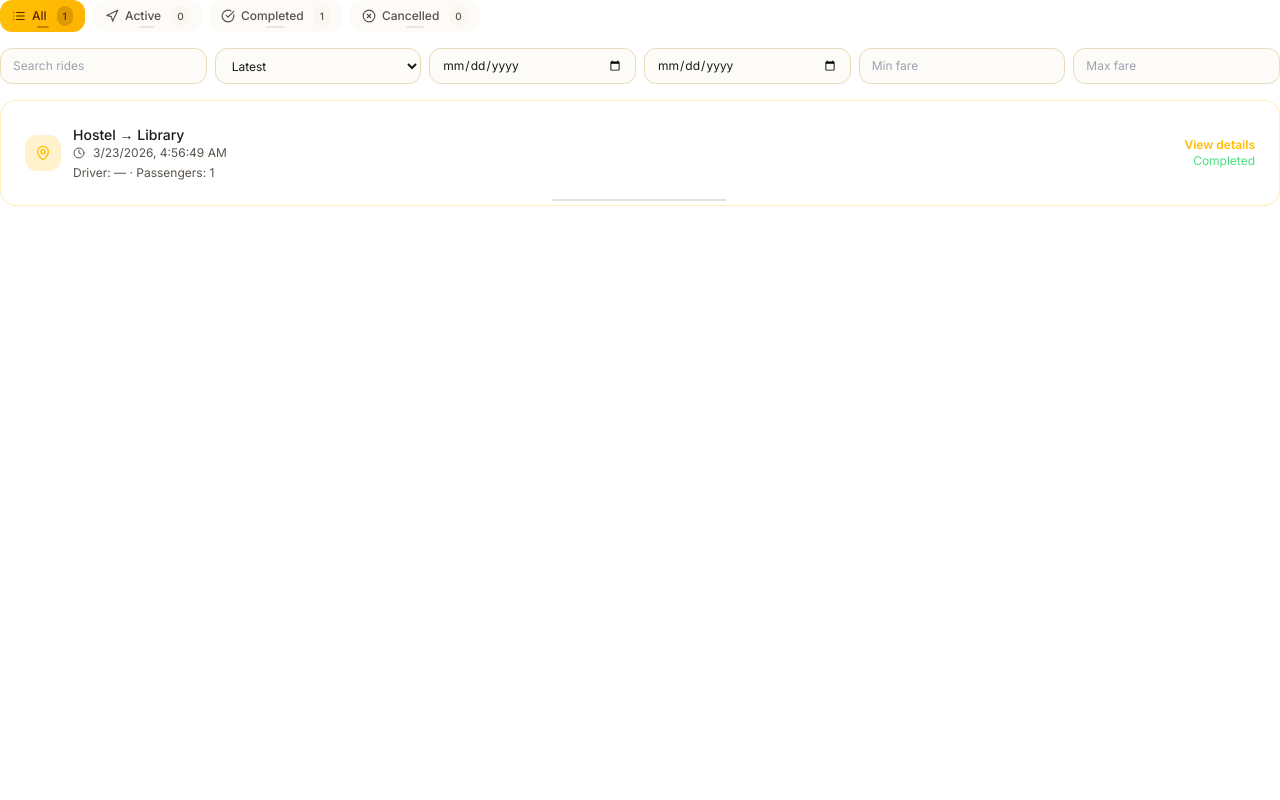
Test: RideHistoryTabs › opens ride details when a ride card is clicked
Expected: the text "Hostel → Library" is shown, [73,126,184,143]
Click the button "Hostel" at coordinates (43, 153), box [0,100,1279,206]
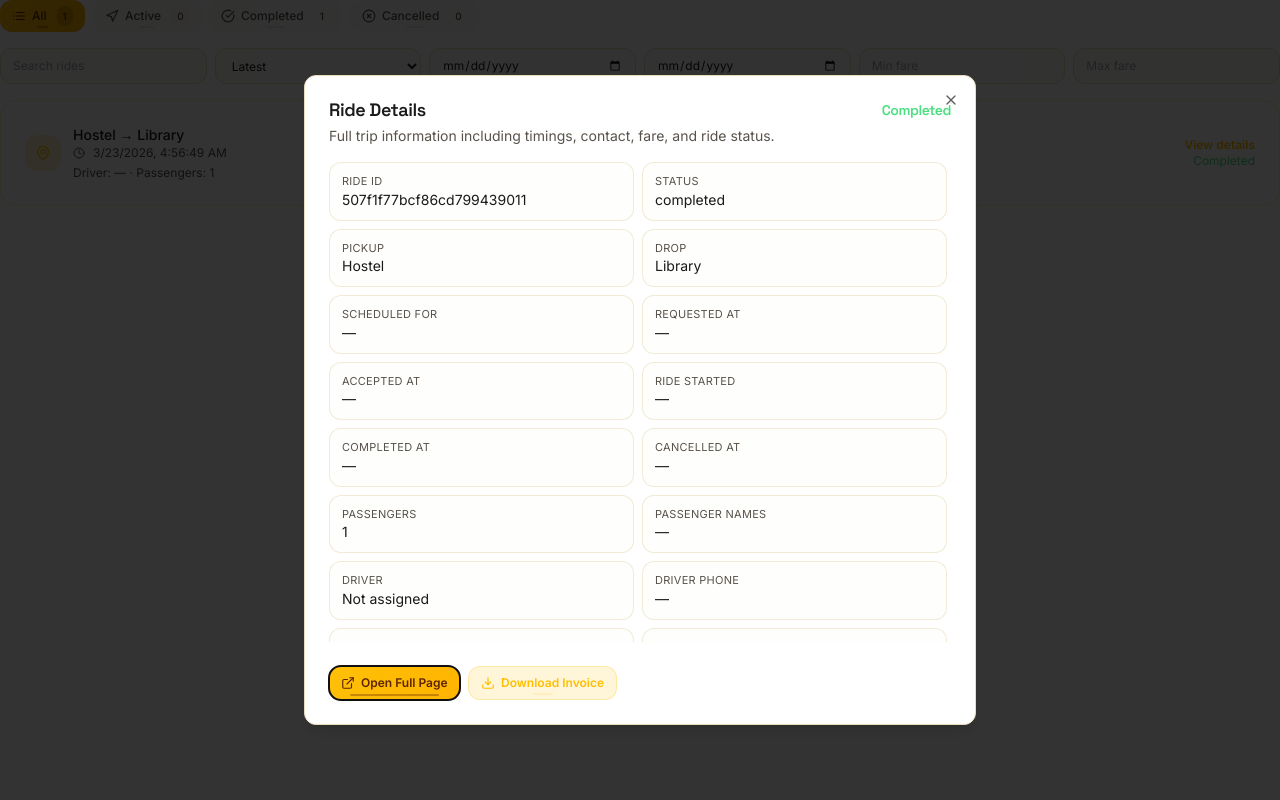
Now the text "Ride Details" is shown, box [329,101,426,119]
Now the text "507f1f77bcf86cd799439011" is shown, box [342,190,526,208]
